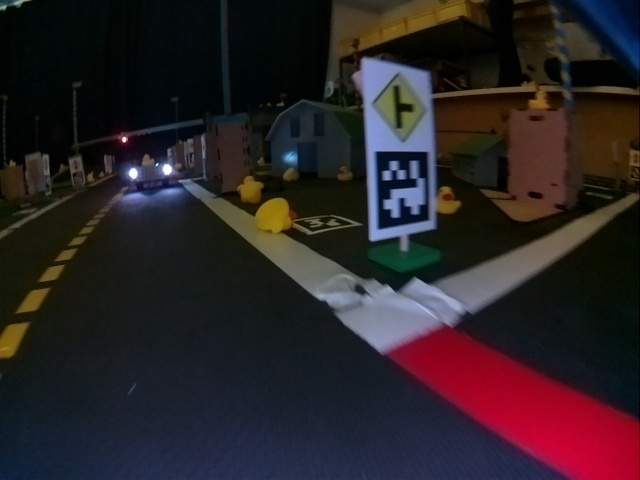Duckie: (255, 198, 294, 231), (437, 186, 460, 214), (238, 176, 263, 200), (529, 91, 551, 111), (336, 165, 355, 180), (283, 167, 298, 180), (141, 153, 153, 164)
Duckiebot: (127, 163, 172, 191)
Intersection sign: (371, 69, 429, 143)
QR code: (375, 152, 428, 228), (296, 214, 360, 235)
